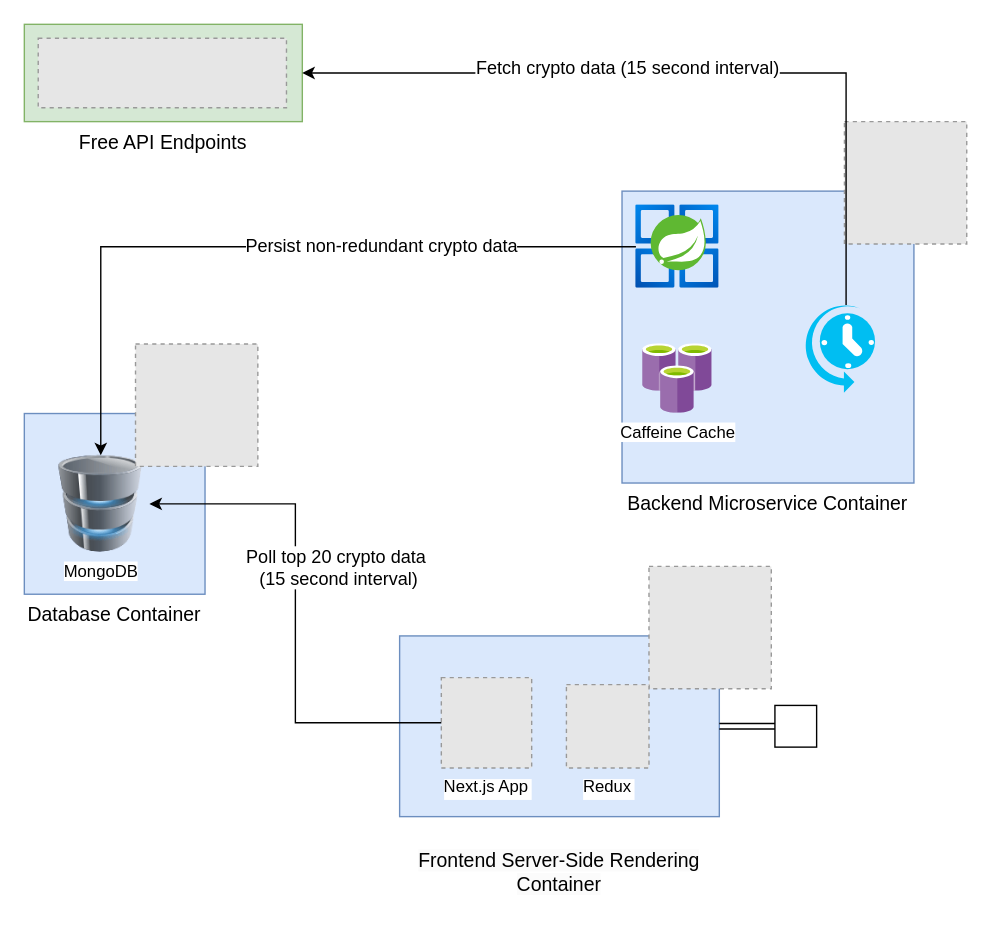
This 991x944 diagram has some shape labels left out. Grey dashed boxes stand in for pictures. The centre of each missing label's shape, as x and y in pixels:
"localhost:3030" goes at (x=795, y=725).
"Spring Boot application" goes at (x=677, y=246).
"Spring Scheduler" goes at (x=838, y=347).
